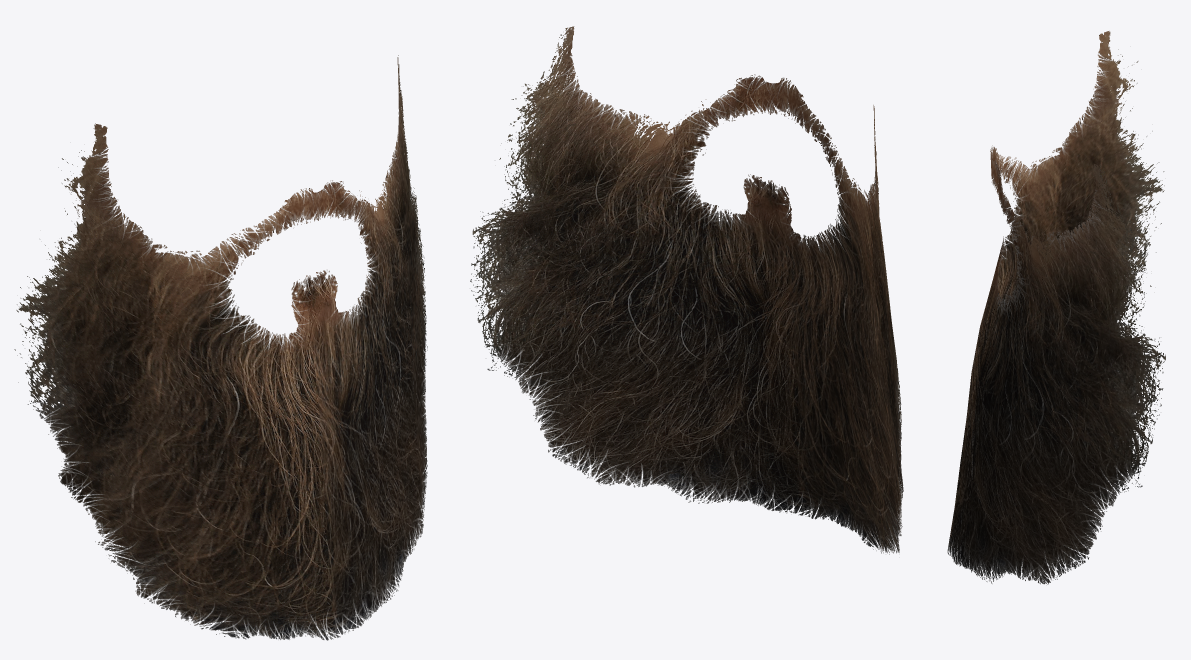
File: Beard_Plane_T_02.fbx
The picture shows the model from 3 angles, left to right: view 1: azimuth 30°, elevation 25°; view 2: azimuth 150°, elevation 25°; view 3: azimuth 270°, elevation 25°; orthographic projection. The views are drawn at different scales.
Visible parts, largest first — view 1: pPlane2; view 2: pPlane2; view 3: pPlane2.
Boxes of the visible parts, bbox=[...] form: pPlane2: bbox=[14, 55, 427, 640]; pPlane2: bbox=[470, 26, 903, 554]; pPlane2: bbox=[947, 31, 1165, 584].
Size of the model in its own units: 17.6 by 20 by 9.17.
1 material, 1 textured.
